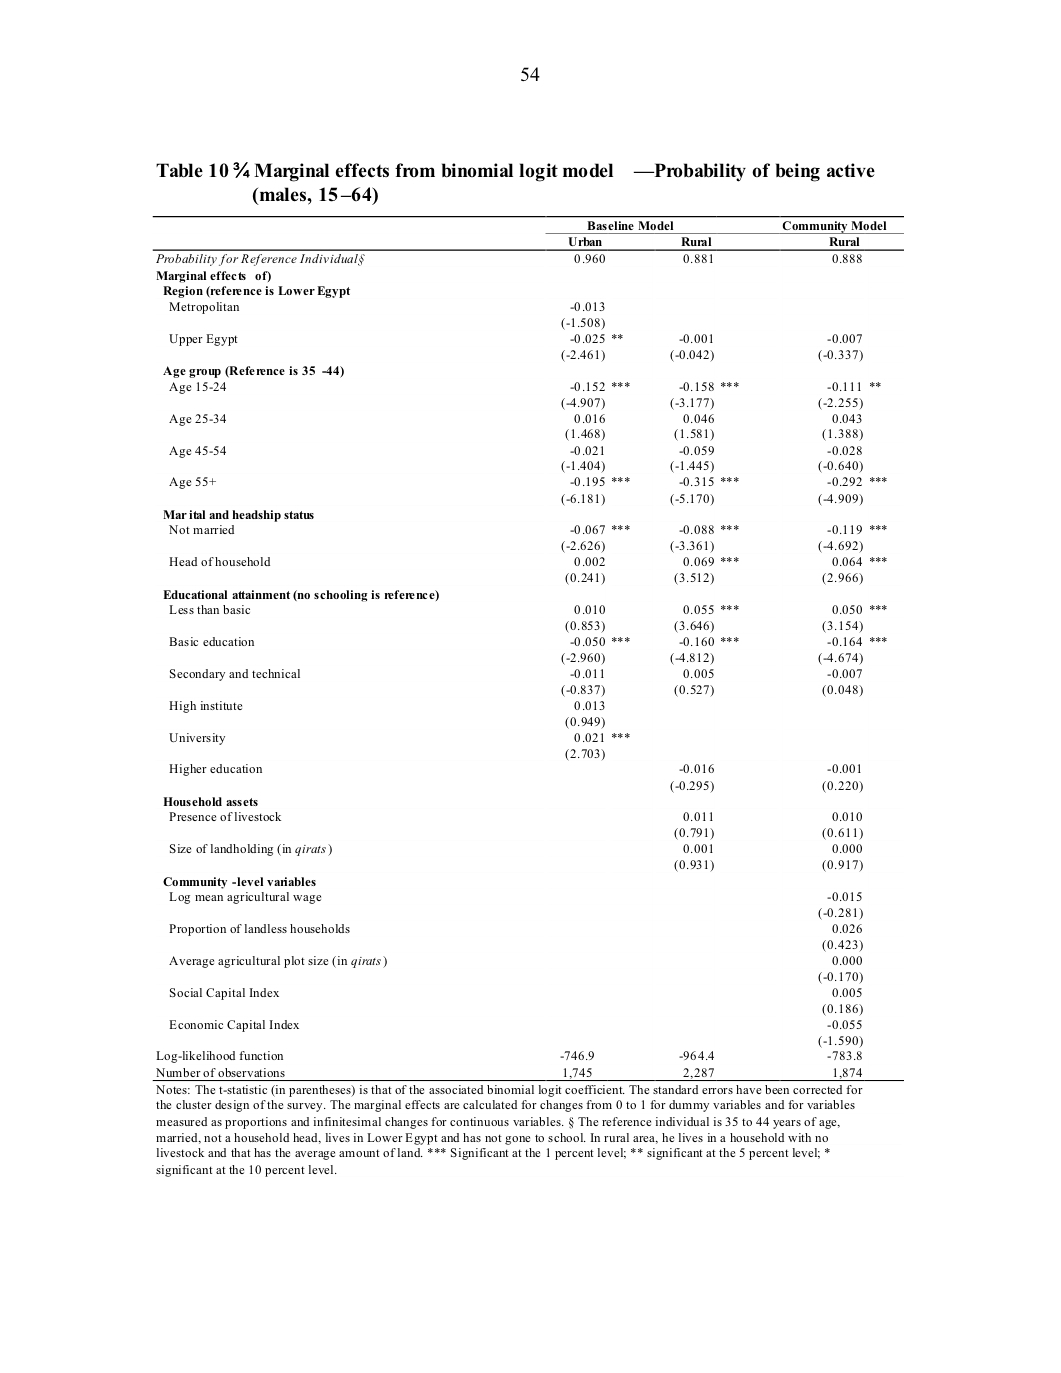Table: (152, 216, 903, 1081)
